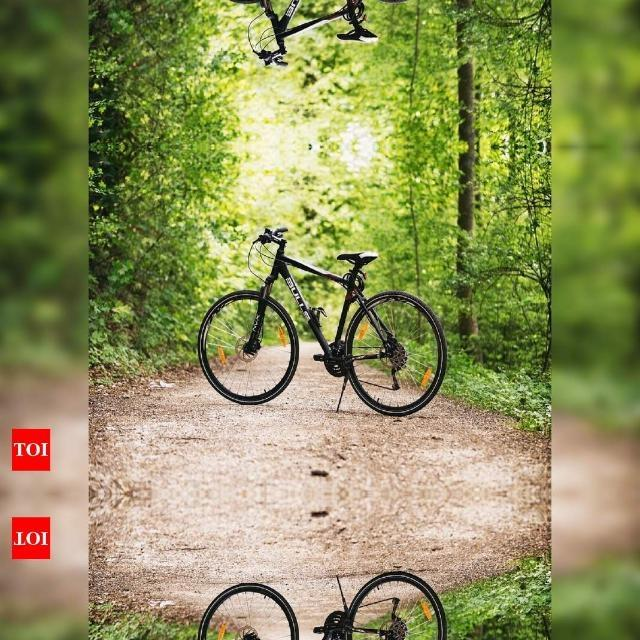obstacle: (184, 223, 452, 422), (183, 564, 452, 640), (183, 0, 452, 68)
